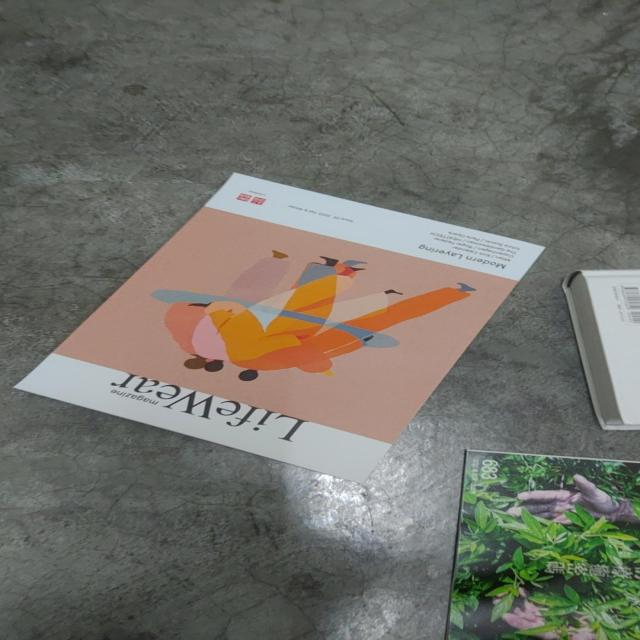paper: (16, 170, 547, 474), (440, 445, 639, 640)
